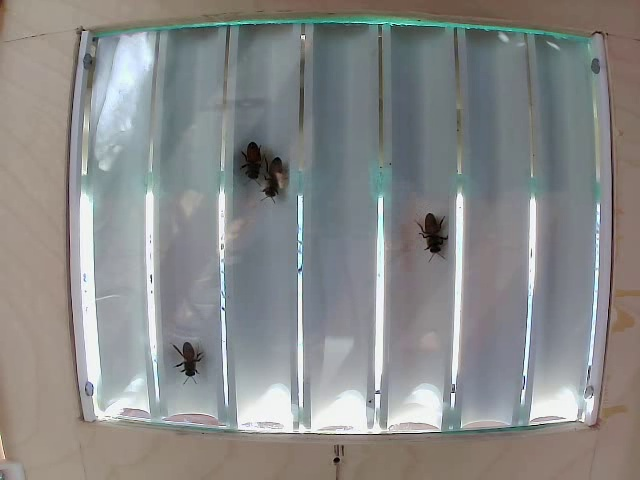bee: (416, 212, 453, 271), (234, 131, 262, 183), (177, 349, 210, 393), (262, 150, 287, 203)
